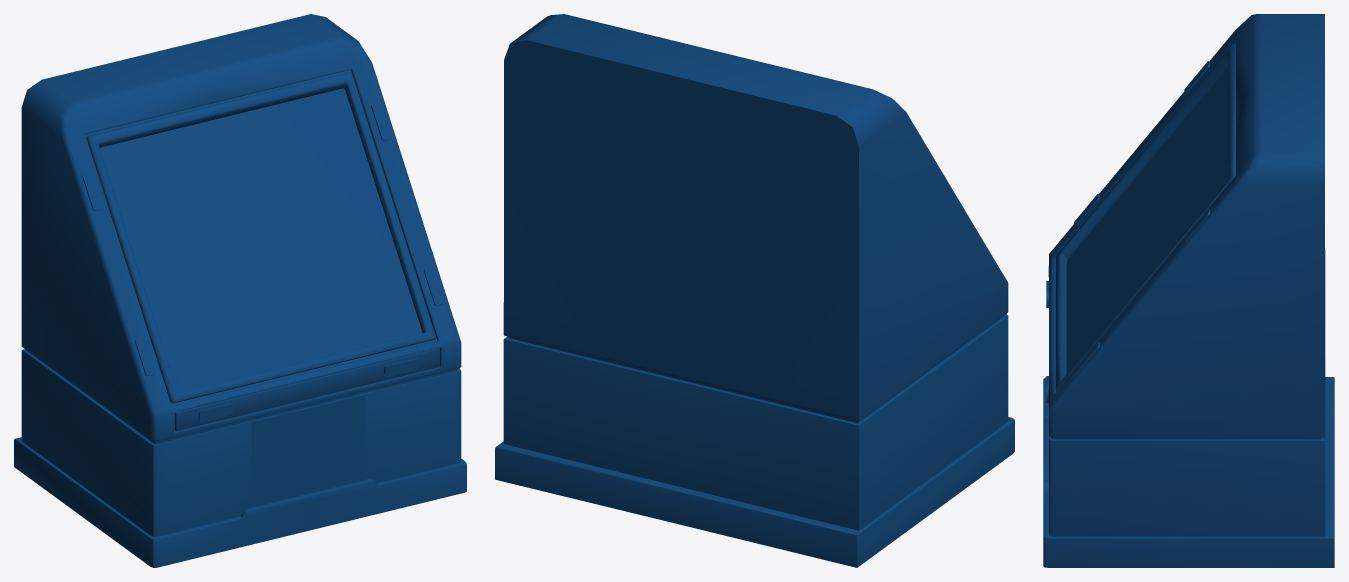
The model's file is ML_roleconsole.fbx.
3 renders of one model, left to right at view 1: azimuth 30°, elevation 25°; view 2: azimuth 150°, elevation 25°; view 3: azimuth 270°, elevation 25°, orthographic. The views are drawn at different scales.
Visible parts, largest first — view 1: ML_roleconsole; view 2: ML_roleconsole; view 3: ML_roleconsole.
Boxes of the visible parts, bbox=[...] form: ML_roleconsole: bbox=[14, 14, 466, 567]; ML_roleconsole: bbox=[495, 14, 1014, 567]; ML_roleconsole: bbox=[1043, 14, 1334, 567].
Size of the model in its own units: 191 by 223 by 146.
